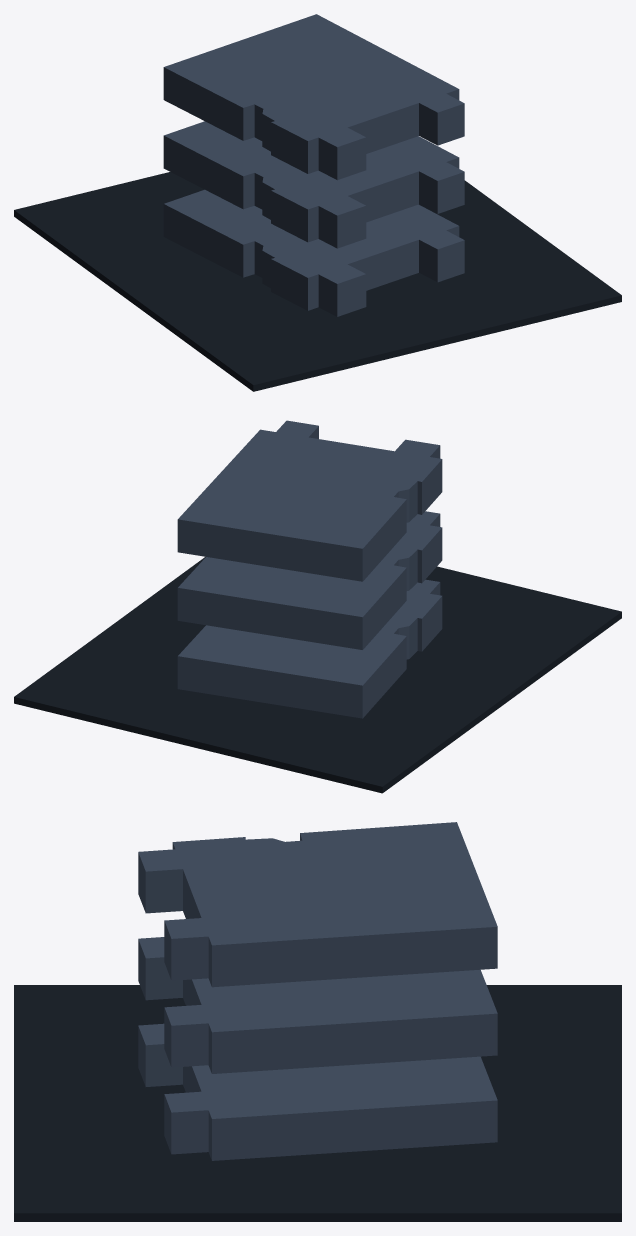
The picture shows the model from 3 angles, top to bottom: view 1: azimuth 30°, elevation 25°; view 2: azimuth 150°, elevation 25°; view 3: azimuth 270°, elevation 25°; orthographic projection. The views are drawn at different scales.
Parts seen in each view (by area): view 1: Ground, f3, f2, f1; view 2: Ground, f3, f1, f2; view 3: Ground, f3, f1, f2.
Part boxes in pixels (x1,y1,x2,y2): Ground: [14, 172, 621, 391]; f3: [163, 14, 464, 180]; f2: [163, 121, 464, 248]; f1: [163, 189, 464, 316]; Ground: [14, 556, 621, 793]; f3: [177, 420, 442, 581]; f1: [177, 579, 442, 718]; f2: [177, 511, 442, 649]; Ground: [14, 985, 621, 1221]; f3: [138, 822, 497, 987]; f1: [138, 1023, 497, 1160]; f2: [138, 937, 497, 1073].
Bounding box in the file's own units: 0.116 × 0.0531 × 0.1305.
